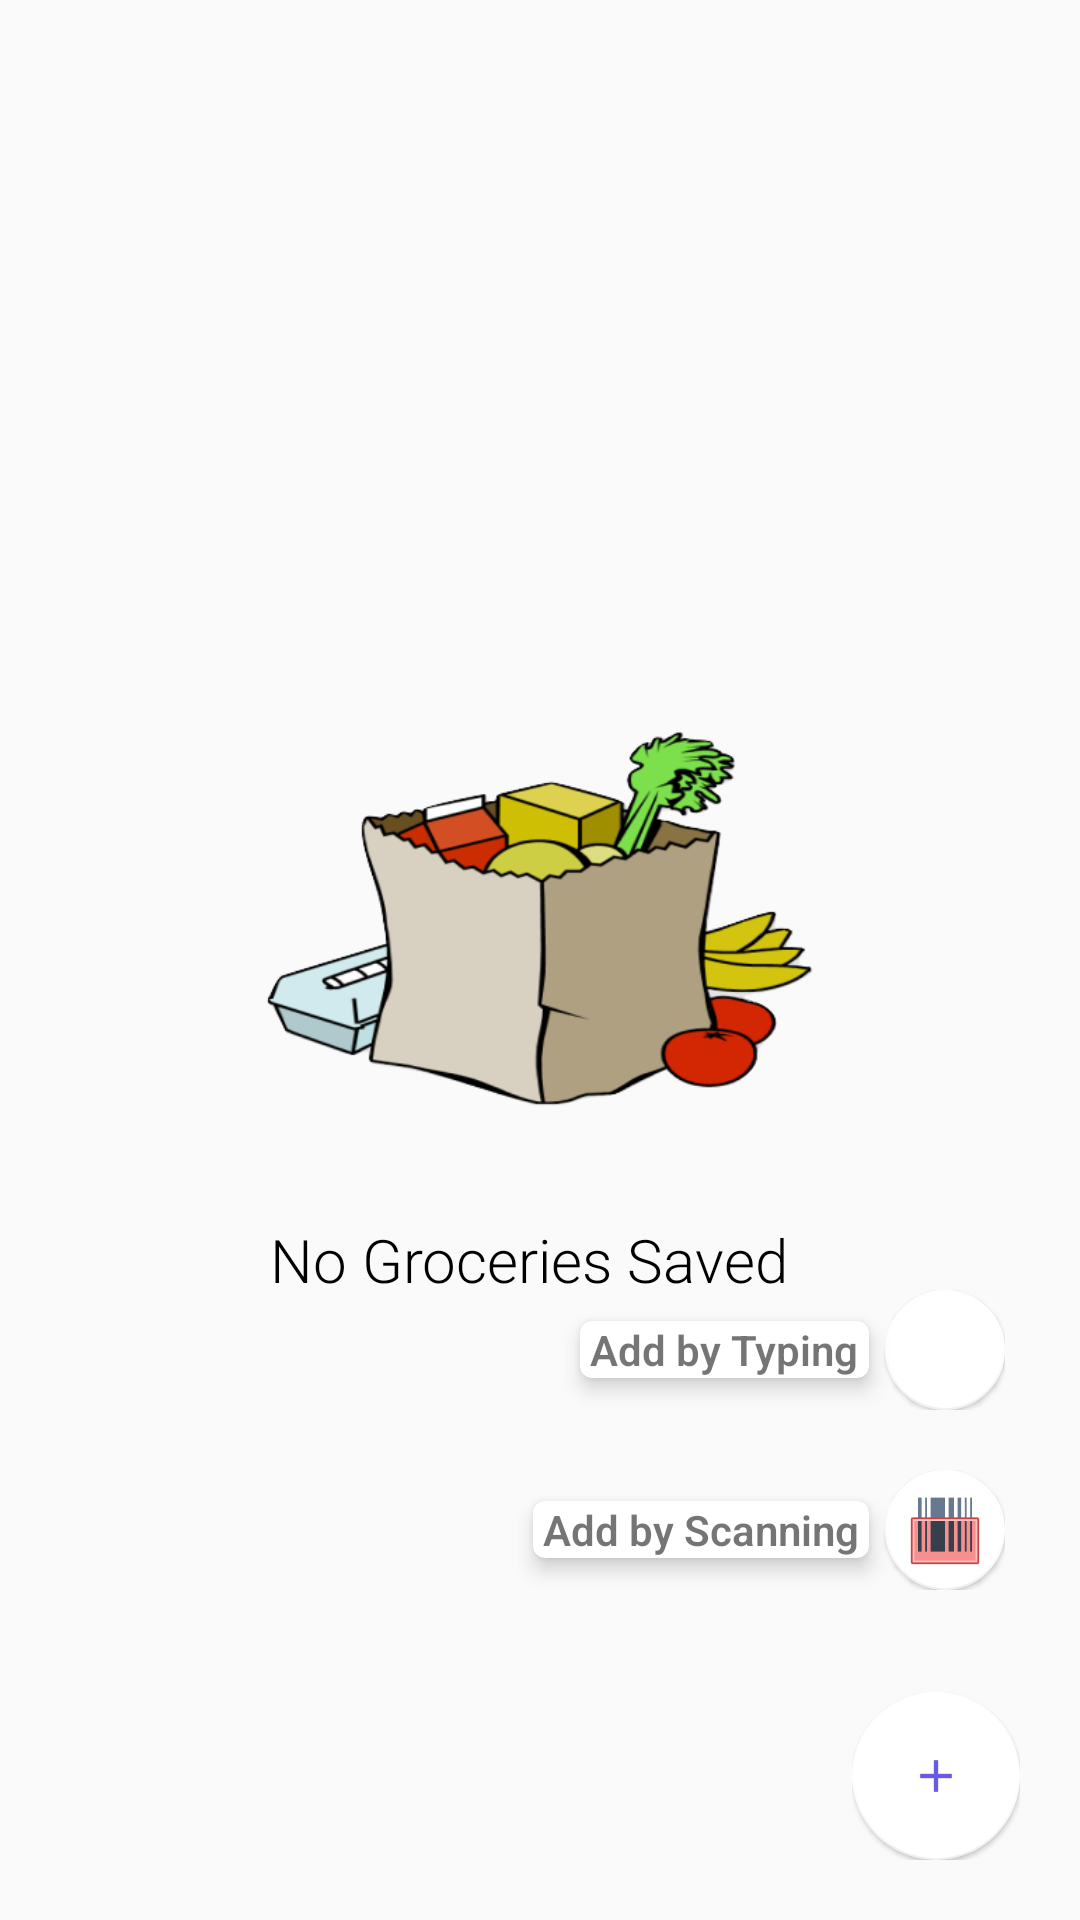

Screen size 1080 x 1920. Icon name, then its center in pixels as [x,y]:
barcode scanner: [949,1543]
